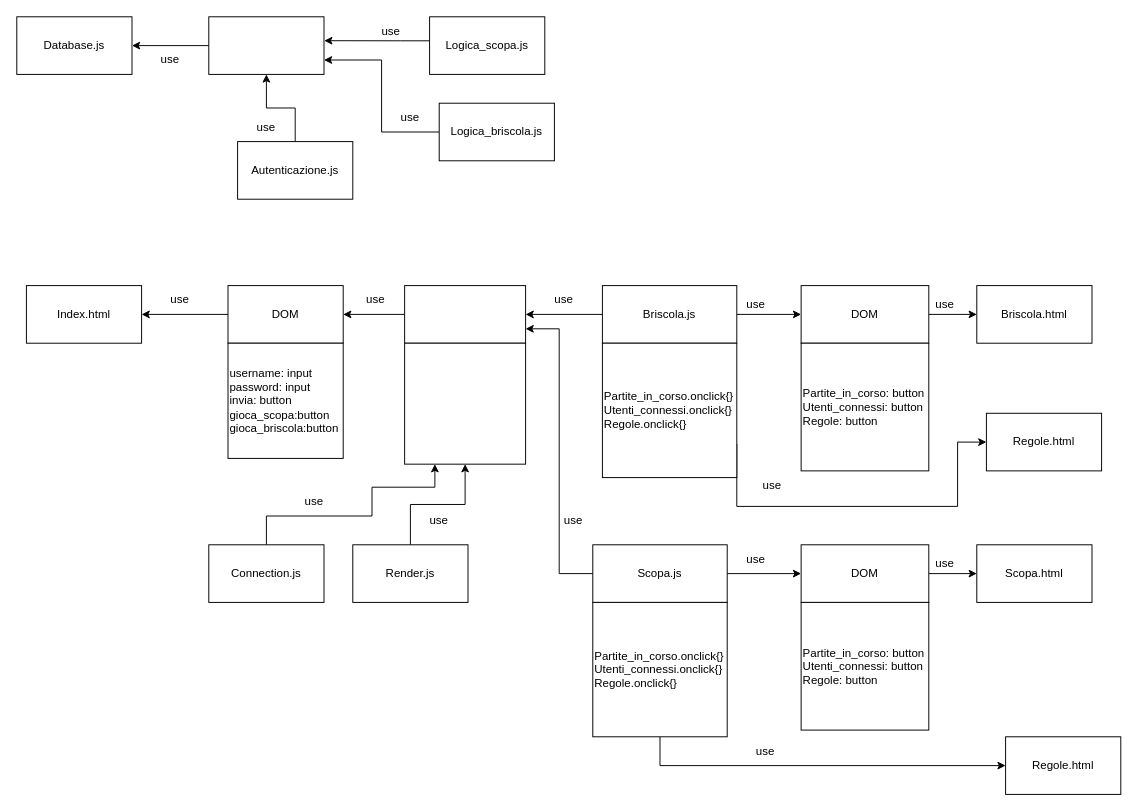
This 1138x811 diagram has some shape labels left out. Here are the shapes that lost their labels. From the top down, the centre of each, then its label:
At (266,45): "Server.js".
At (465,314): "Index.js".
At (465,403): "invia.onclick{} gioca_scopa:.onclick{} gioca_briscola.onclick{}".
